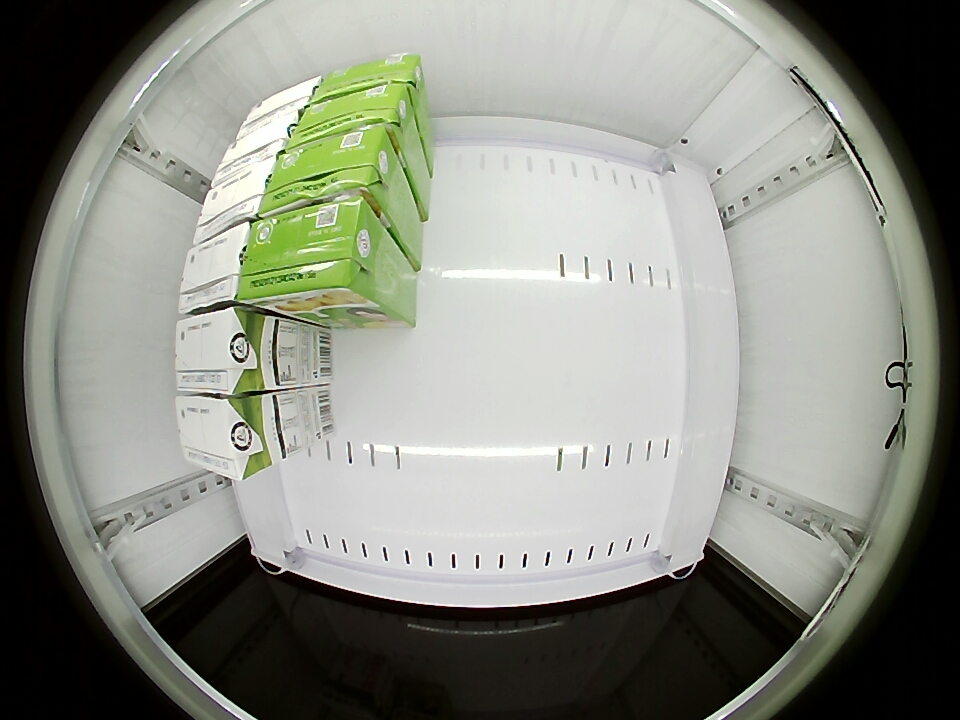mengniu: (174, 307, 264, 396), (176, 395, 265, 481), (195, 157, 274, 245), (179, 223, 252, 315), (216, 109, 297, 183), (241, 74, 320, 133)
mengniuzaocan: (240, 197, 379, 311), (262, 125, 393, 217), (287, 85, 411, 145), (308, 54, 422, 104)
